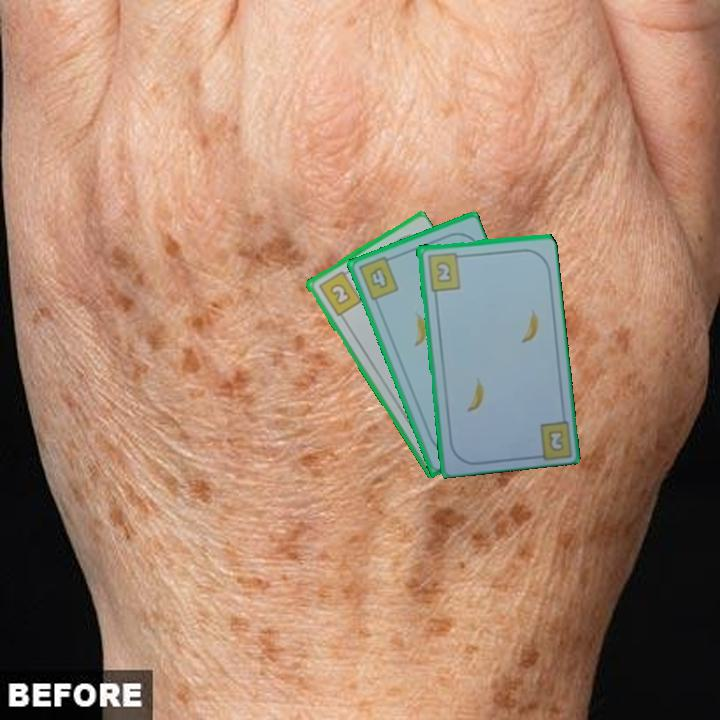2b: (315, 266, 364, 319), (424, 249, 466, 293), (544, 426, 567, 454)
4b: (355, 253, 401, 303)
